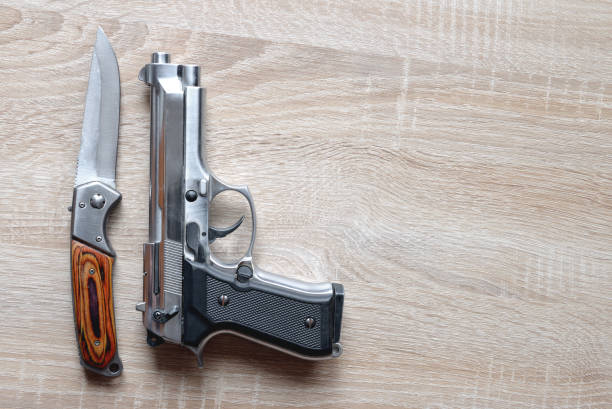gun: (136, 50, 346, 366)
knife: (65, 24, 125, 381)
